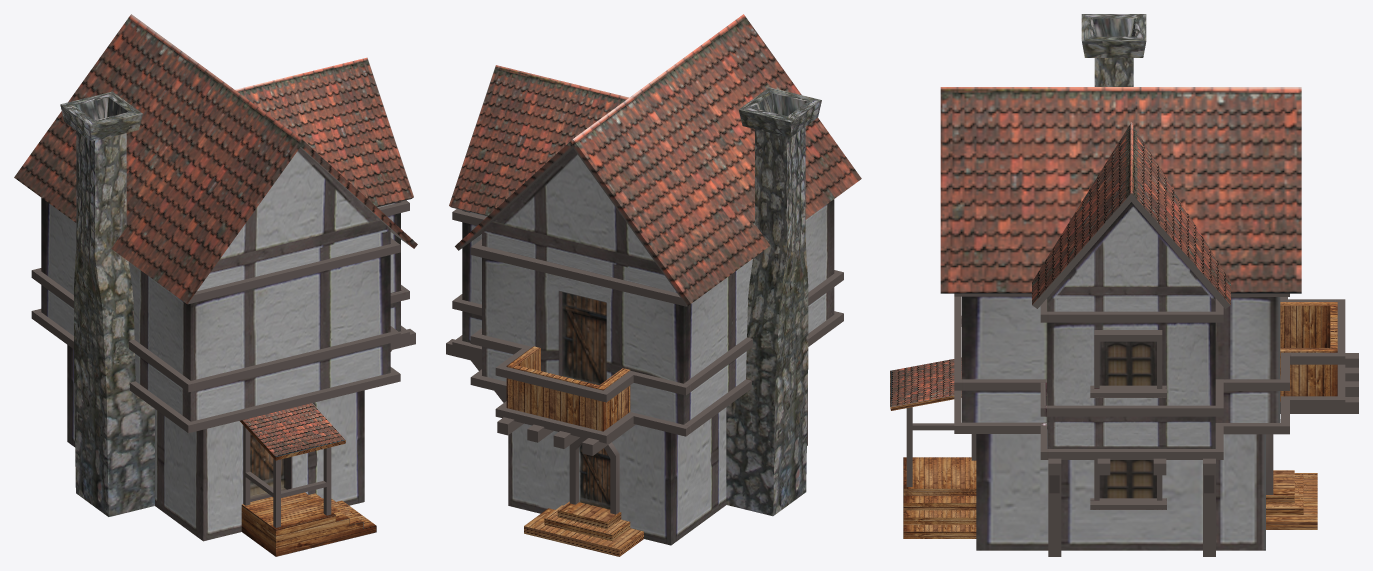
Rendered from house-7.glb.
3 renders of one model, left to right at view 1: azimuth 30°, elevation 25°; view 2: azimuth 150°, elevation 25°; view 3: azimuth 270°, elevation 25°, orthographic. The views are drawn at different scales.
Visible parts, largest first — view 1: Cube; view 2: Cube; view 3: Cube.
Part boxes in pixels (x1,y1,x2,y2): Cube: [14, 14, 417, 556]; Cube: [446, 14, 861, 556]; Cube: [890, 14, 1358, 556].
Size of the model in its own units: 0.1006 by 0.1228 by 0.1237.
1 material, 1 textured.
